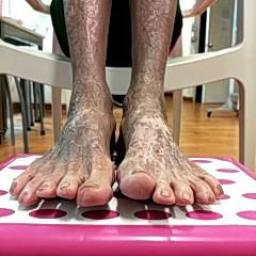Front View -Both Feet-: (2, 70, 236, 228)
